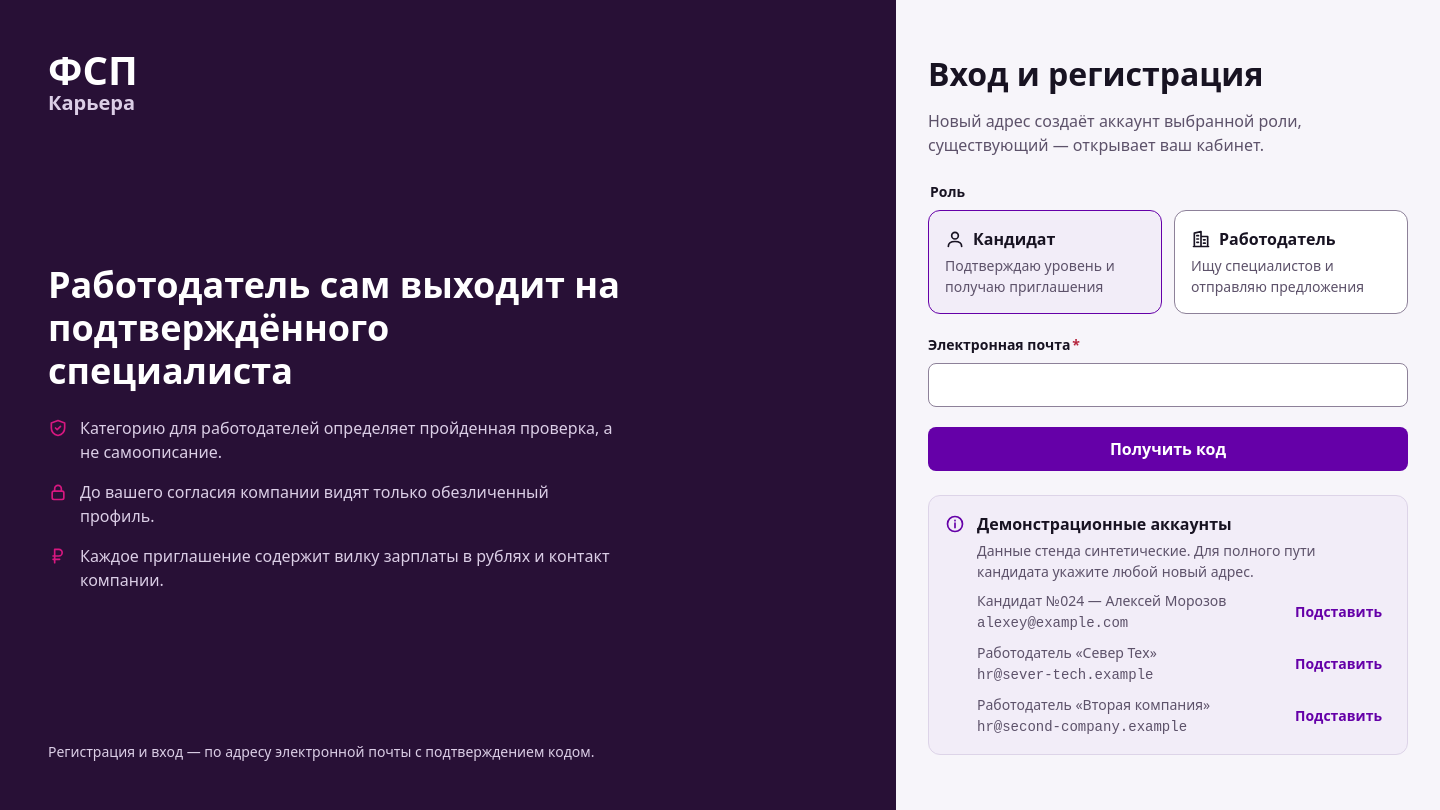
email sign-in › shows the fixed code only for a seeded demo account
What coordinates should you click on to do the following:
click the button with aria-label "Подставить alexey@example.com"
I would click on:
 (1338, 612)
Its box is [1286,594,1391,630].
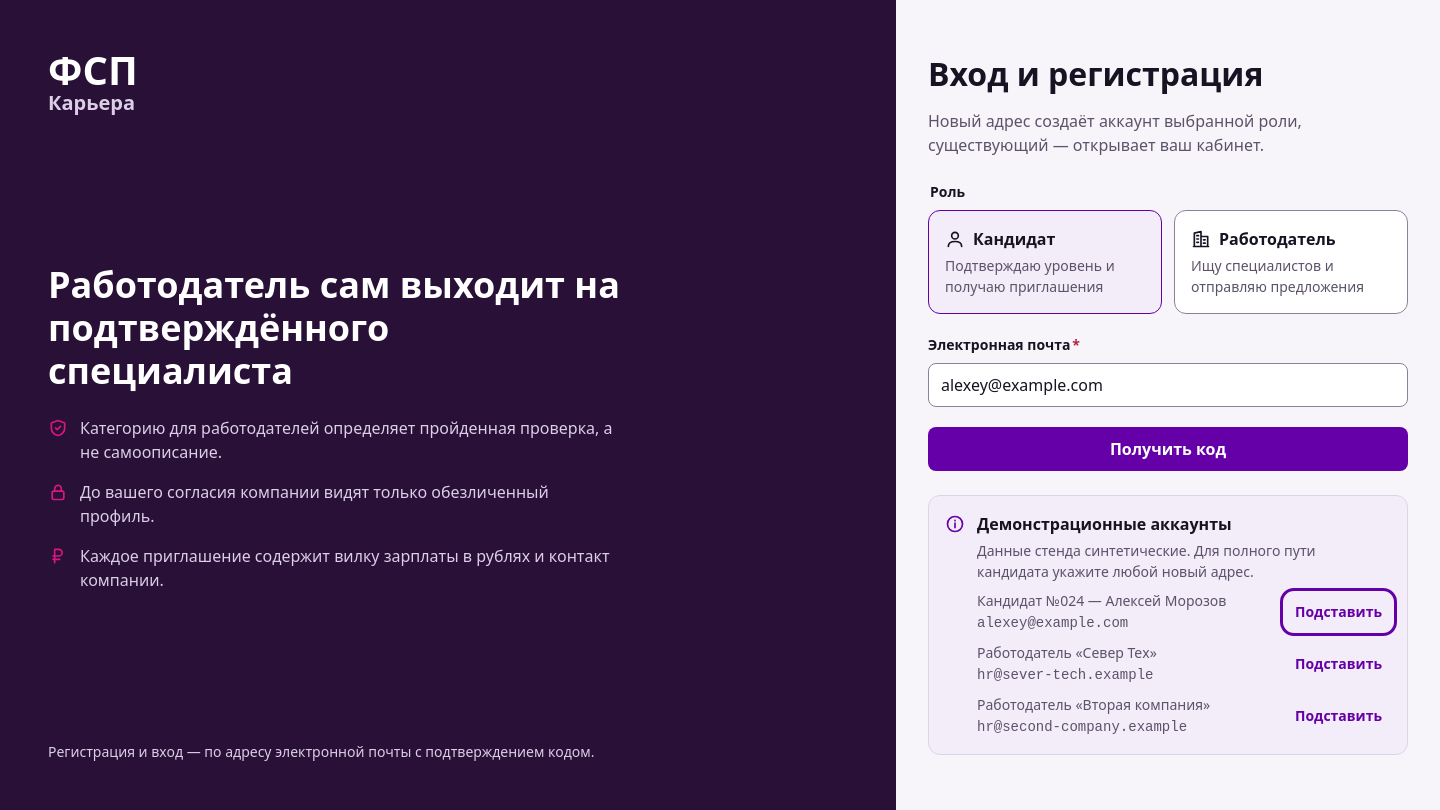
What coordinates should you click on to do the following:
click the button "Получить код"
I would click on:
 (1168, 449)
Its box is [928,427,1408,471].
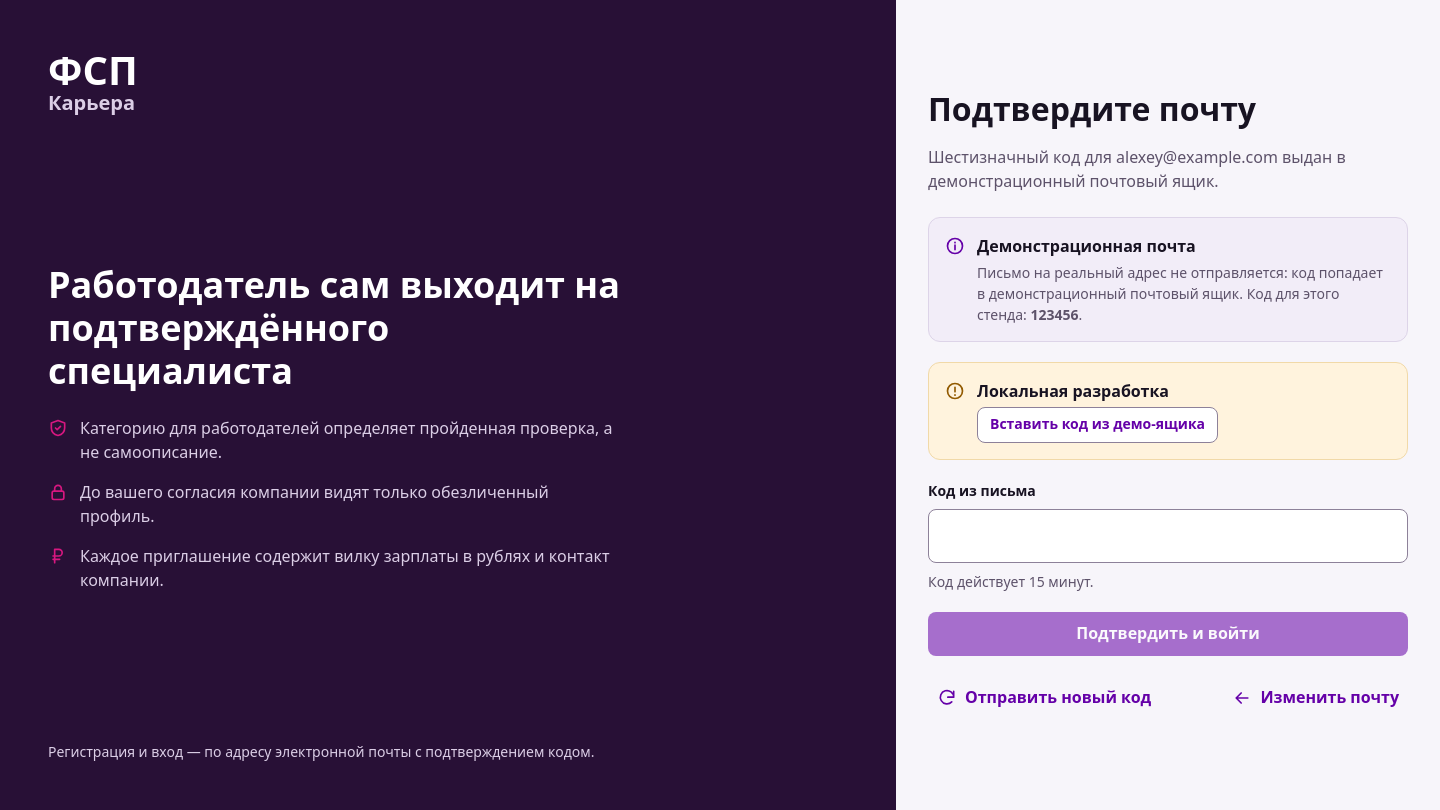
Now the text "123456" is shown, box [1030,305,1079,324]
